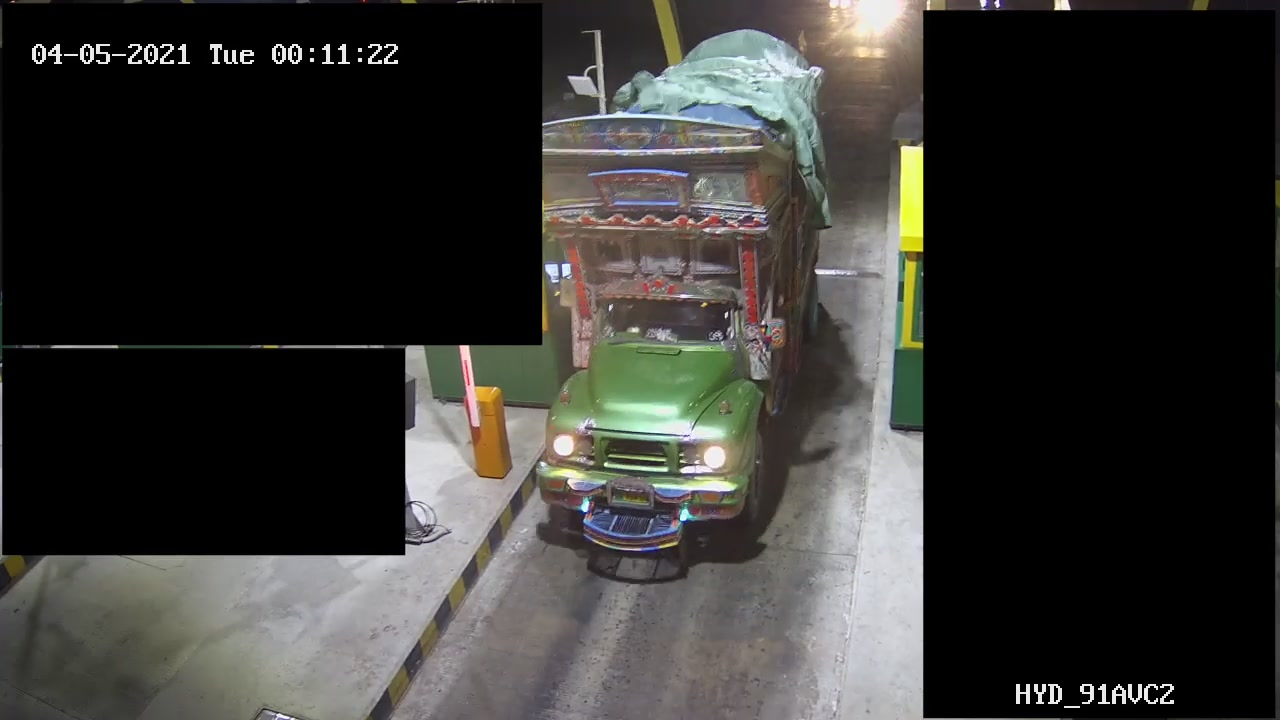F5: (527, 29, 838, 557)
